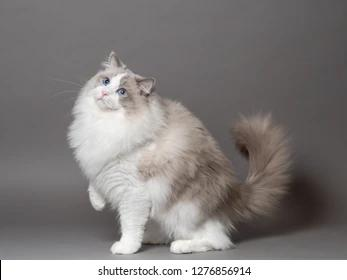ragdoll: (86, 47, 161, 127)
